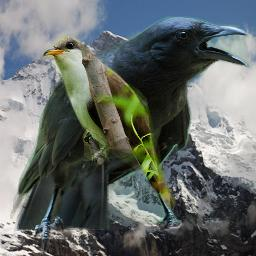Crow: (10, 16, 249, 254)
Cuckoo: (38, 36, 183, 210)
